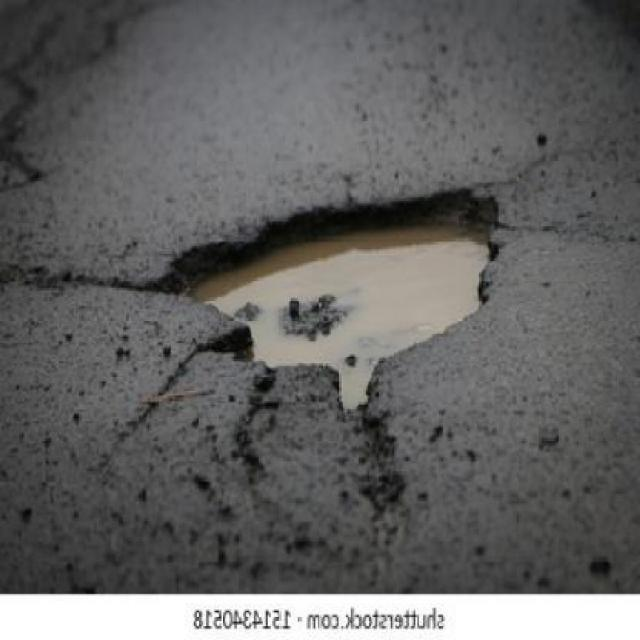pothole: (160, 183, 503, 414)
